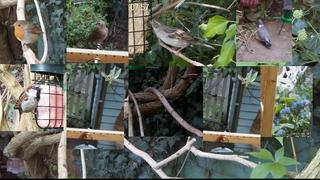robin: (10, 20, 46, 52)
sparrow: (148, 18, 216, 57), (13, 84, 44, 122)
starling: (81, 20, 108, 50)
wood pigeon: (257, 20, 272, 47)
